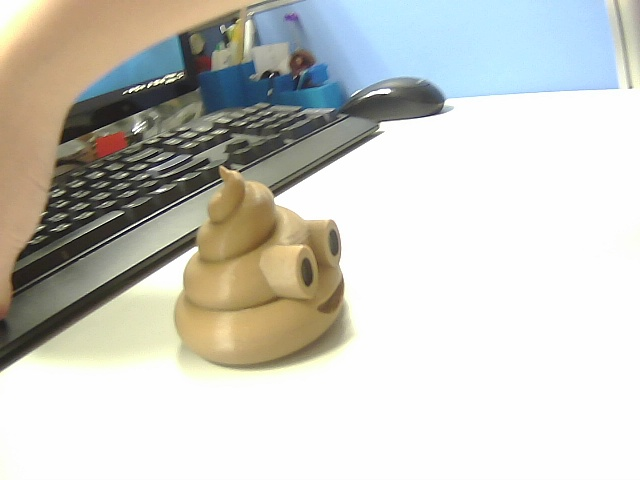shit: (172, 166, 355, 371)
